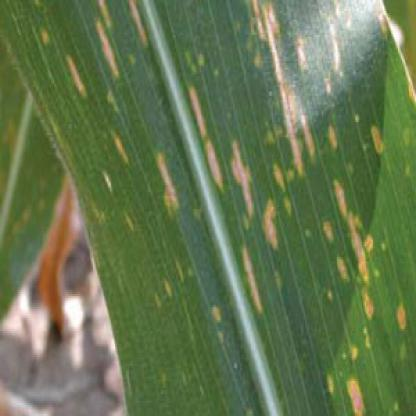Corn Gray leaf spot: (5, 3, 414, 410)
